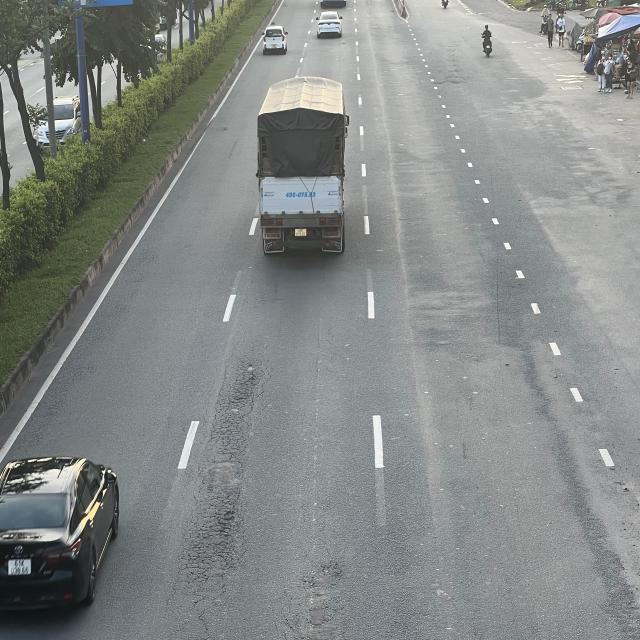car: (0, 457, 119, 616), (316, 11, 344, 40), (264, 24, 288, 54)
truck: (254, 75, 349, 258)
